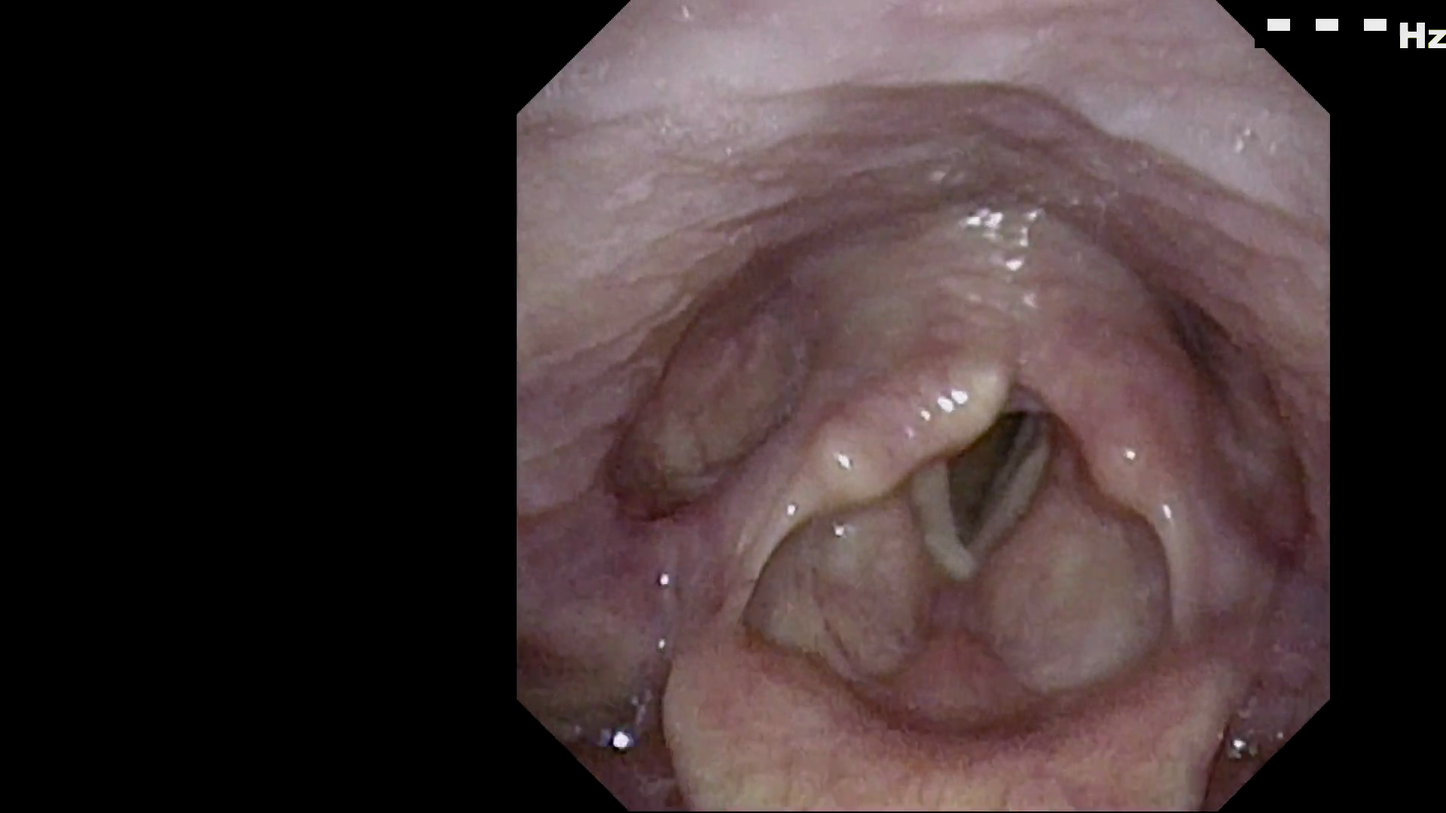epiglottis: (652, 630, 1233, 781)
trachea: (897, 400, 1063, 572)
